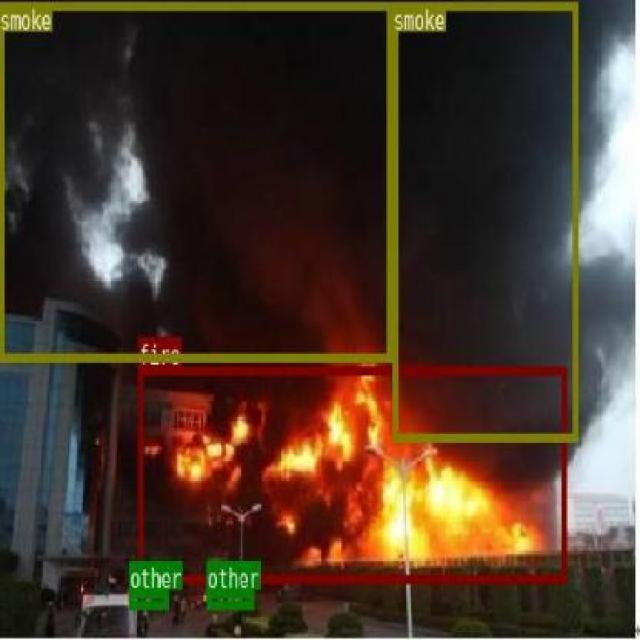Fire: (138, 365, 566, 581)
Smoke: (0, 0, 391, 360), (392, 0, 576, 440)
